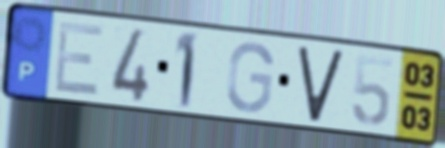1: (173, 29, 201, 111)
4: (109, 25, 154, 104)
5: (349, 51, 396, 128)
E: (51, 20, 106, 99)
G: (223, 39, 276, 116)
V: (295, 45, 347, 125)
